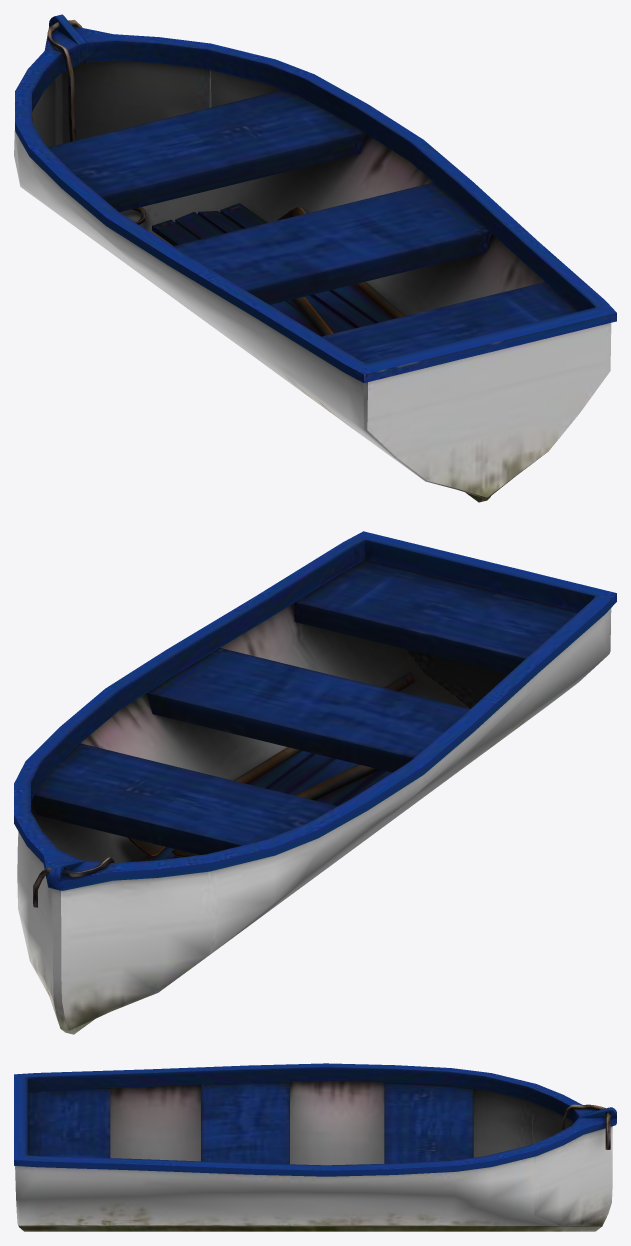
Rendered from fishing-boat.glb.
3 renders of one model, top to bottom at view 1: azimuth 30°, elevation 25°; view 2: azimuth 150°, elevation 25°; view 3: azimuth 270°, elevation 25°, orthographic. The views are drawn at different scales.
Visible parts, largest first — view 1: boat; view 2: boat; view 3: boat.
Part boxes in pixels (left/top/right/bottom): boat: left=14, top=14, right=616, bottom=502; boat: left=14, top=531, right=616, bottom=1034; boat: left=14, top=1063, right=616, bottom=1231.
Size of the model in its own units: 1.9 by 0.9988 by 4.5.
Materials: 1 (1 with a texture image).
